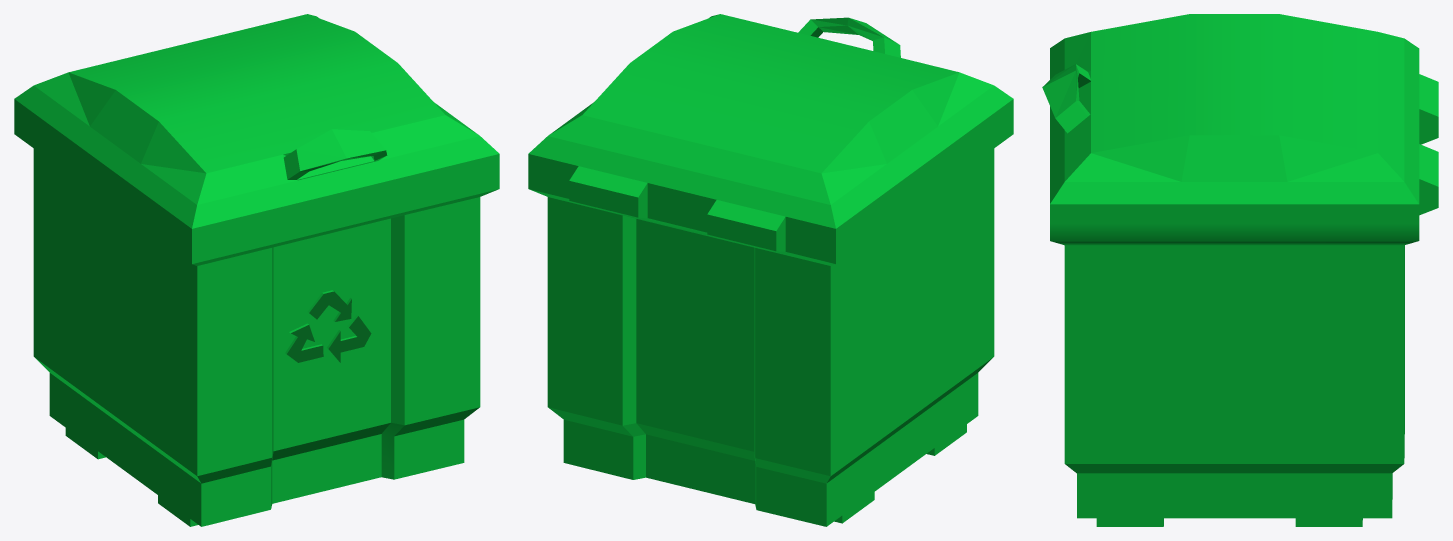
Rendered from garbage bin.FBX.
3 renders of one model, left to right at view 1: azimuth 30°, elevation 25°; view 2: azimuth 150°, elevation 25°; view 3: azimuth 270°, elevation 25°, orthographic. The views are drawn at different scales.
Visible parts, largest first — view 1: garbage bin; view 2: garbage bin; view 3: garbage bin.
Boxes of the visible parts, bbox=[...] form: garbage bin: bbox=[14, 14, 499, 526]; garbage bin: bbox=[528, 14, 1013, 526]; garbage bin: bbox=[1042, 14, 1438, 526].
Bounding box in the file's own units: 42.8 × 49.77 × 45.95.
